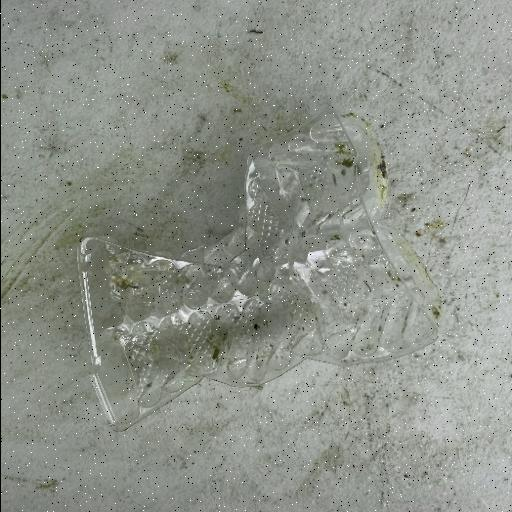Plastic: (74, 108, 442, 432)
